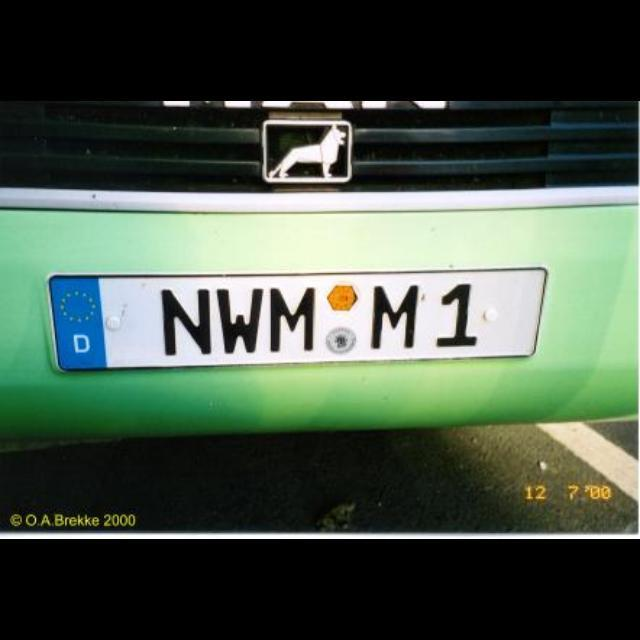license-plates: (50, 268, 548, 370)
